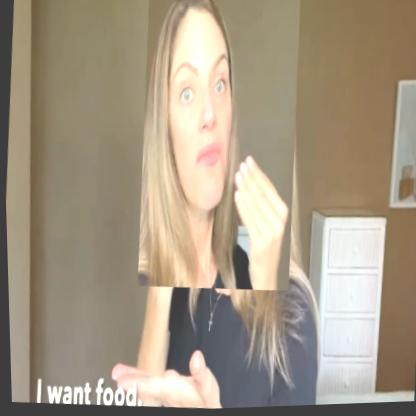Food: (129, 0, 307, 297)
